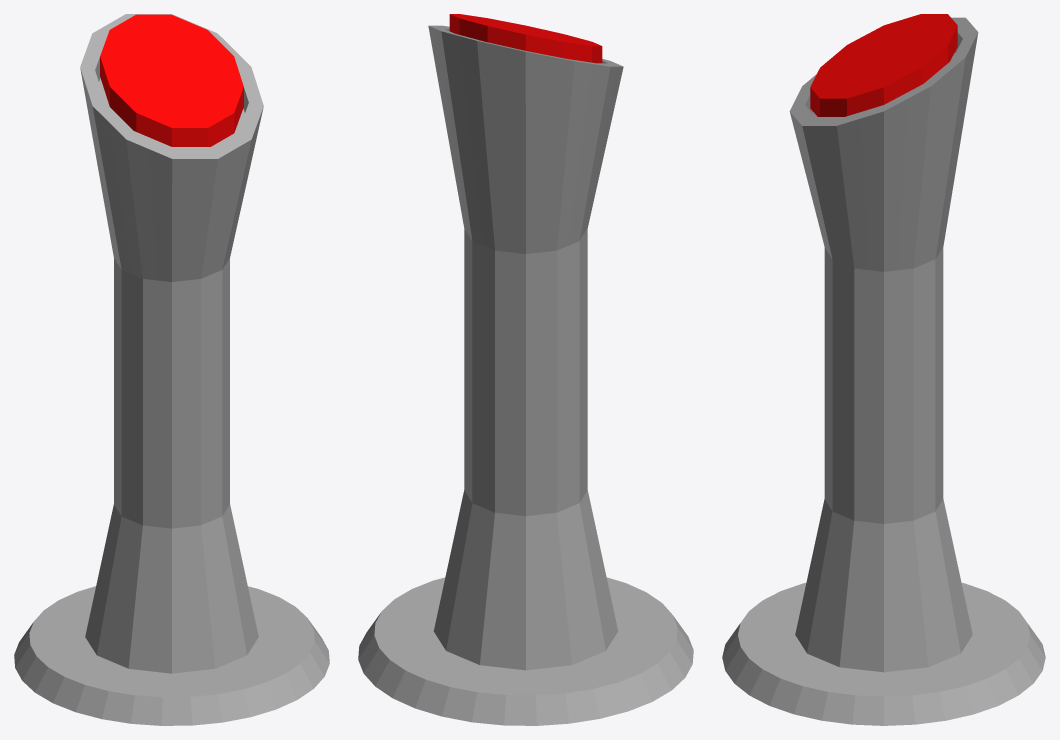
Rendered from props.fbx_B2.fbx.
3 renders of one model, left to right at view 1: azimuth 30°, elevation 25°; view 2: azimuth 150°, elevation 25°; view 3: azimuth 270°, elevation 25°, orthographic. The views are drawn at different scales.
Parts seen in each view (by area): view 1: Circle.001, Cylinder.001; view 2: Circle.001, Cylinder.001; view 3: Circle.001, Cylinder.001.
Part boxes in pixels (x1,y1,x2,y2): Circle.001: (14, 14, 329, 725); Cylinder.001: (100, 14, 243, 146); Circle.001: (358, 25, 693, 725); Cylinder.001: (449, 14, 602, 63); Circle.001: (722, 17, 1045, 725); Cylinder.001: (810, 14, 957, 116).
Size of the model in its own units: 0.5 by 1.08 by 0.5.
